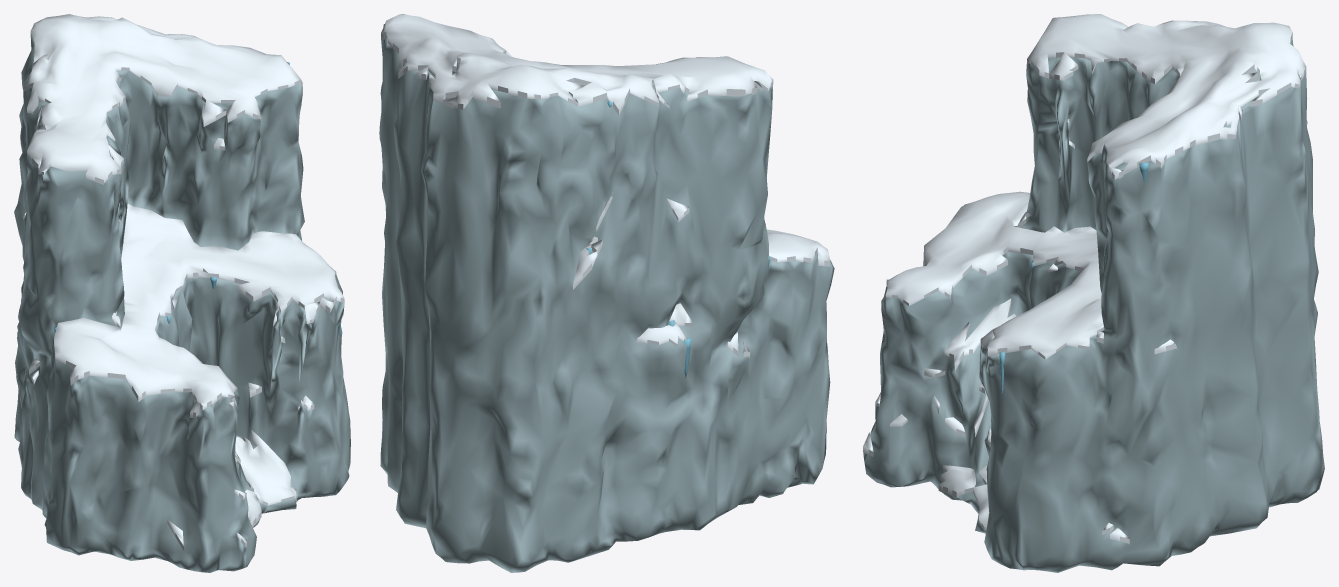
The model's file is ThirdRoom_CliffMass.fbx.
The picture shows the model from 3 angles, left to right: view 1: azimuth 30°, elevation 25°; view 2: azimuth 150°, elevation 25°; view 3: azimuth 270°, elevation 25°; orthographic projection. The views are drawn at different scales.
Parts seen in each view (by area): view 1: ThirdRoom_CliffMass_LOD0; view 2: ThirdRoom_CliffMass_LOD0; view 3: ThirdRoom_CliffMass_LOD0.
Part boxes in pixels (bbox=[...]): ThirdRoom_CliffMass_LOD0: bbox=[14, 14, 350, 572]; ThirdRoom_CliffMass_LOD0: bbox=[379, 14, 834, 572]; ThirdRoom_CliffMass_LOD0: bbox=[863, 14, 1324, 572].
Size of what is drawn, in the model's own units: 4.69 by 6.05 by 5.54.
